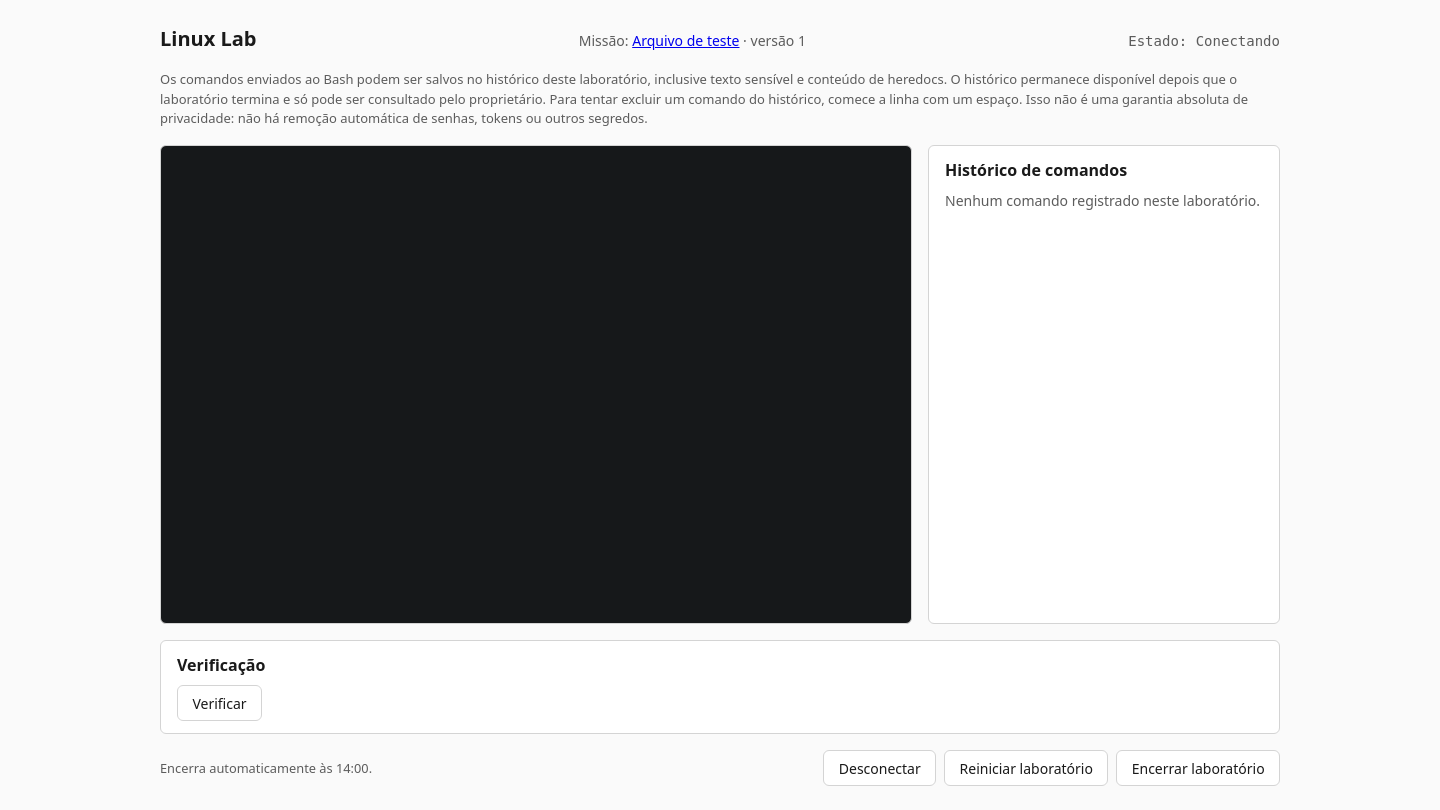
Test: late responses of operations started by the previous user › does not refresh Bia's catalog for Ana's late validation failure
Click the button "Verificar": [220, 703] box x1=177 y1=685 x2=262 y2=721
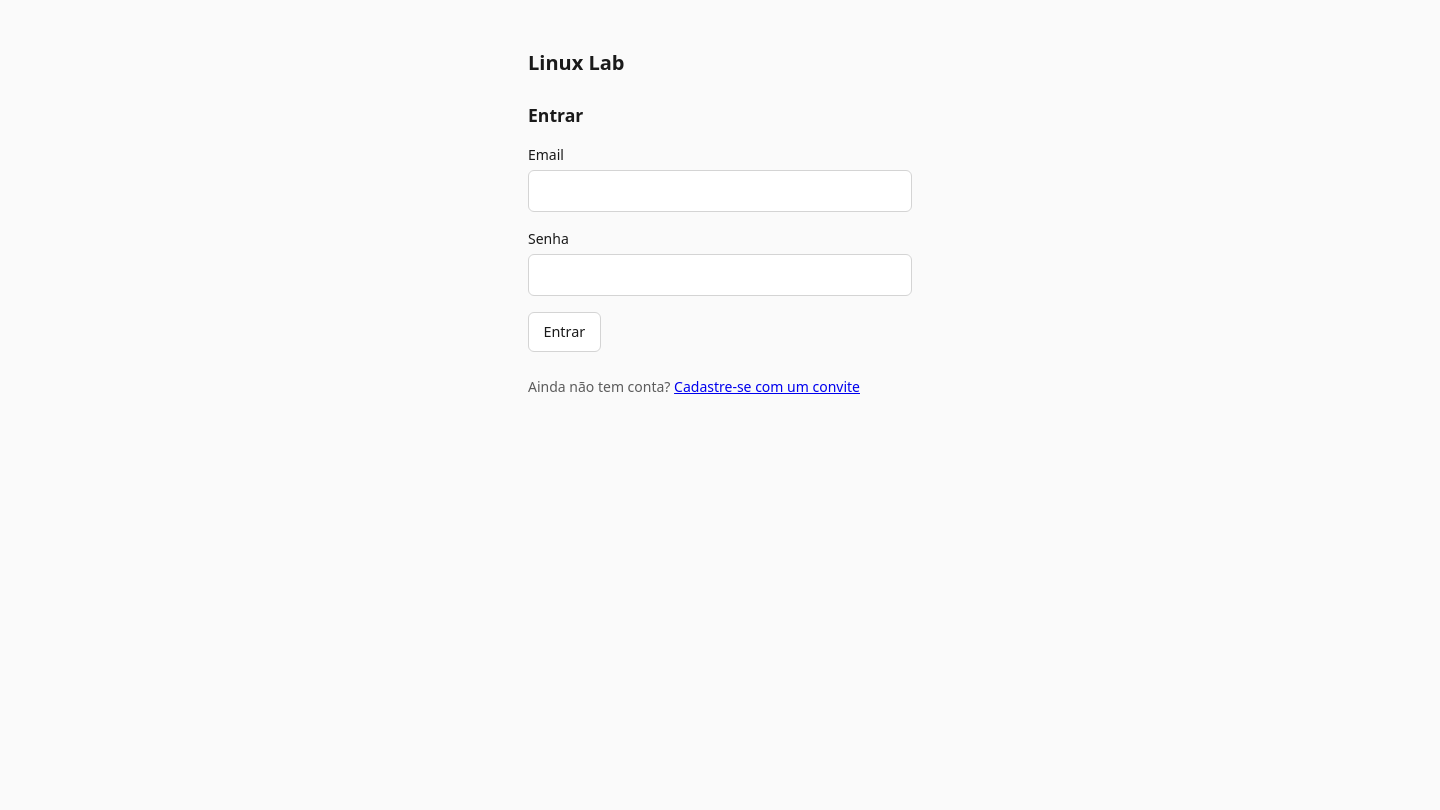
Result: the heading "Entrar" is shown at x1=528 y1=103 x2=583 y2=127
In the field labelled "Email": [720, 191] box x1=528 y1=170 x2=912 y2=212, type "bia@example.com"
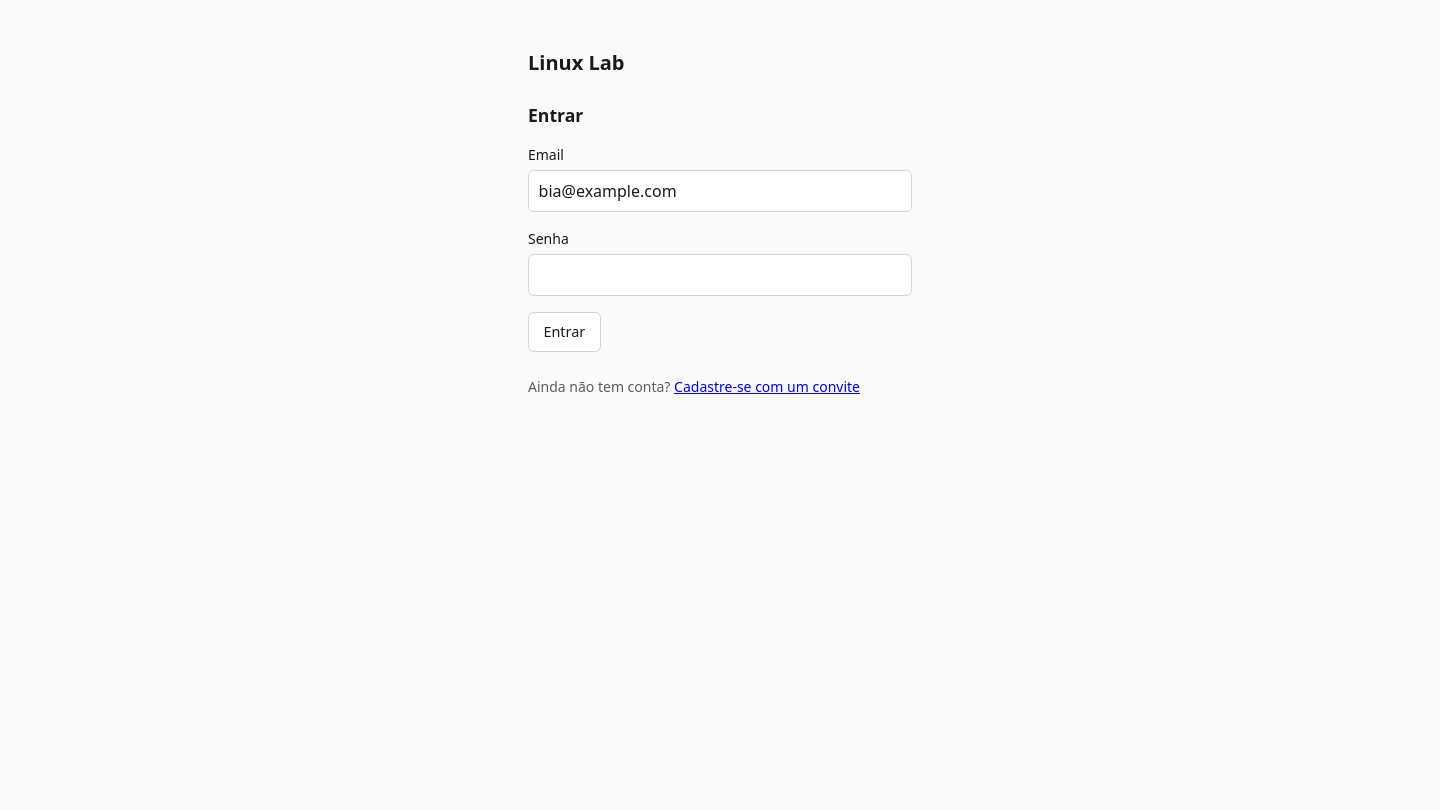
In the password field labelled "Senha": [720, 275] box x1=528 y1=254 x2=912 y2=296, type "synthetic password 01"
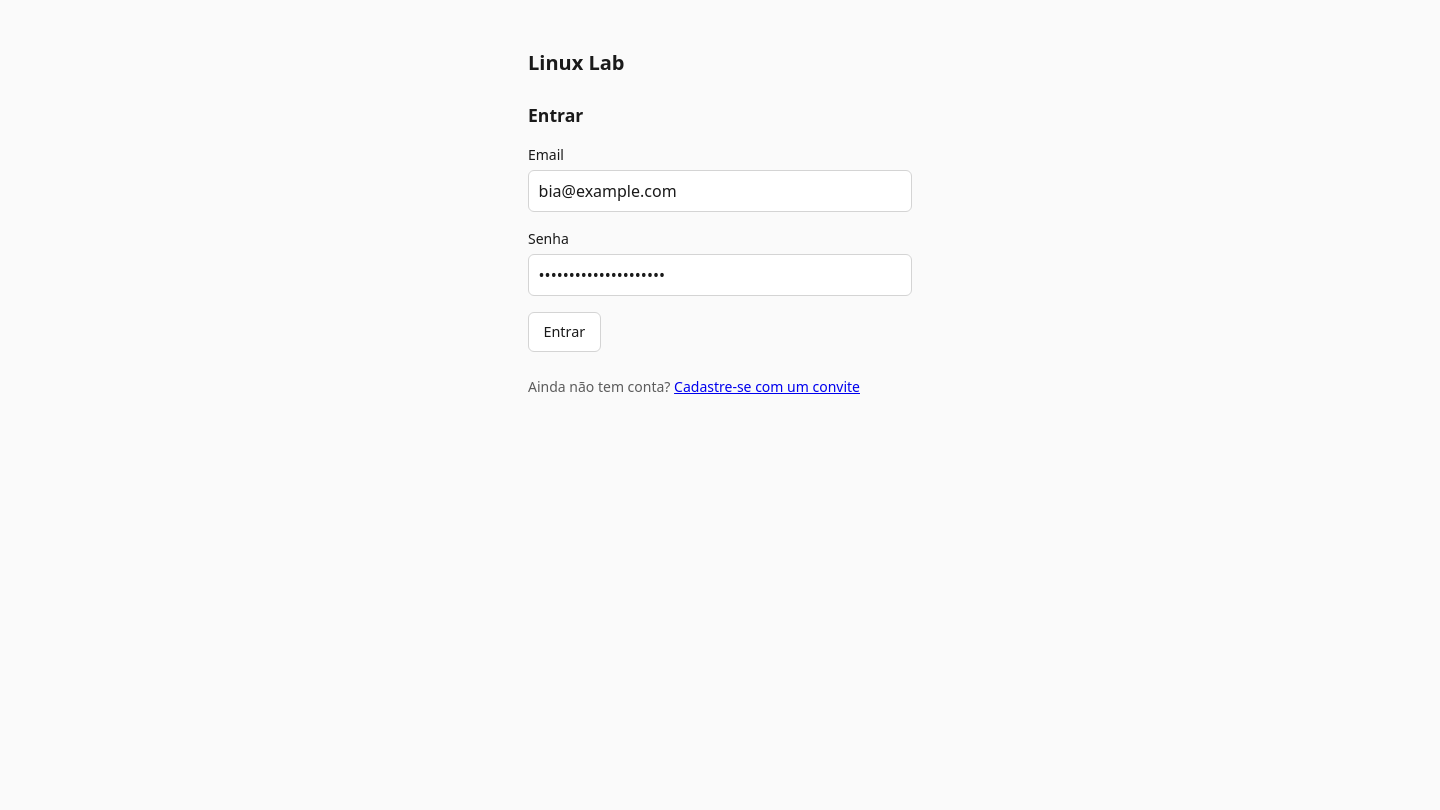
Click the button "Entrar": [564, 332] box x1=528 y1=312 x2=600 y2=352
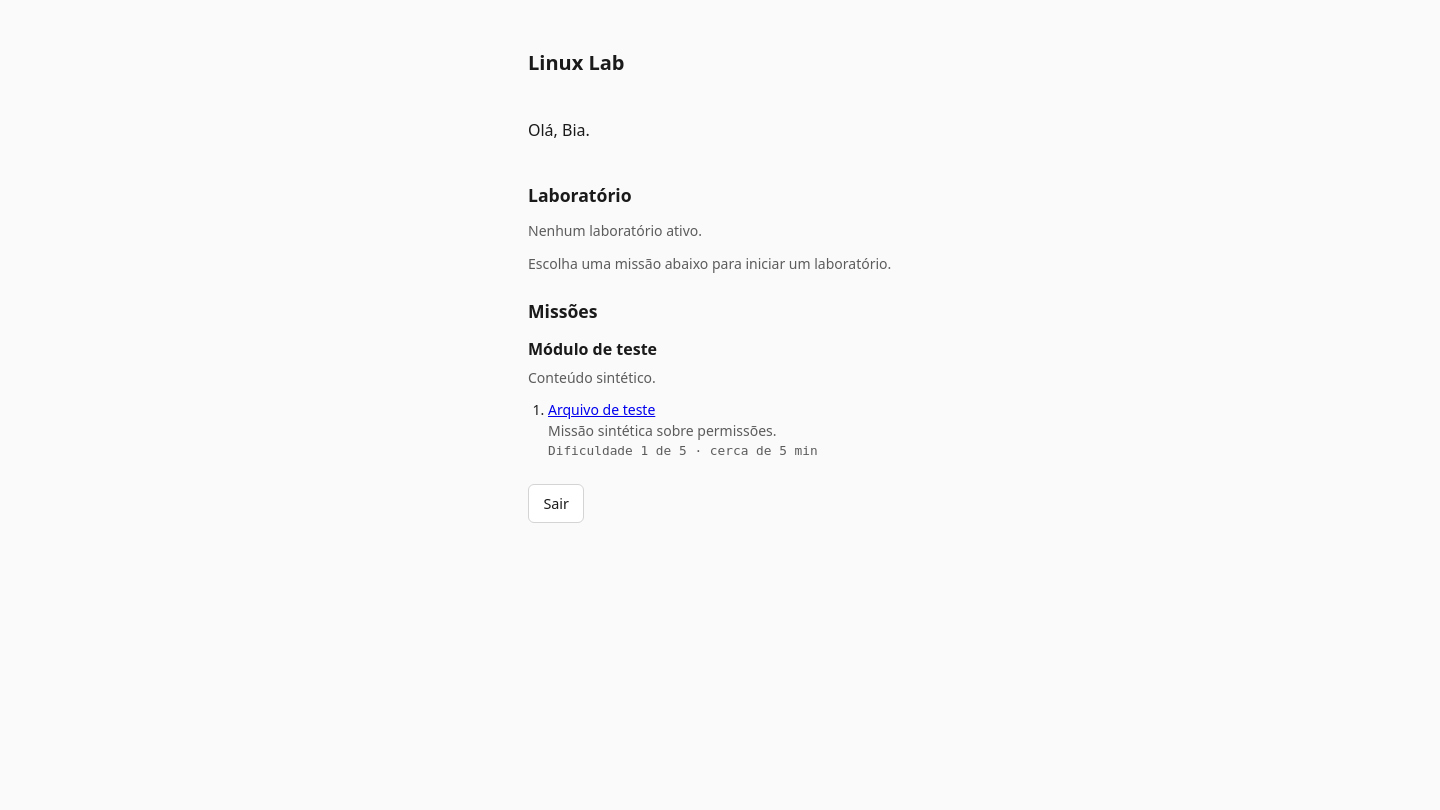
Result: the text "Olá, Bia." is shown at x1=528 y1=119 x2=590 y2=141
Result: the link "Arquivo de teste" is shown at x1=548 y1=400 x2=655 y2=419
